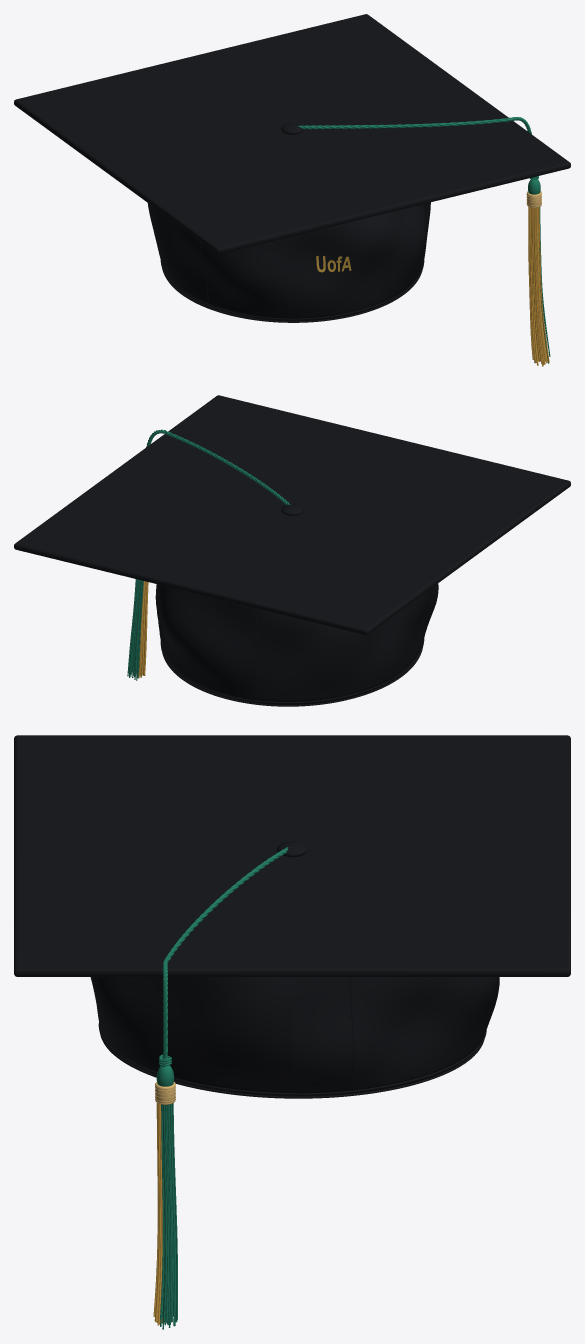
The model's file is graduation-cap-uofa.glb.
3 views of the same model, one above another, from view 1: azimuth 30°, elevation 25°; view 2: azimuth 150°, elevation 25°; view 3: azimuth 270°, elevation 25° (orthographic). The views are drawn at different scales.
Visible parts, largest first — view 1: Cap_Top, Cap_Body, Tassel_Bundle, Cap_Hem, Tassel_Cord; view 2: Cap_Top, Cap_Body, Tassel_Bundle, Cap_Hem, Tassel_Cord; view 3: Cap_Top, Cap_Body, Tassel_Bundle, Cap_Hem, Tassel_Cord.
Boxes of the visible parts, x1,y1,x2,y2 form: Cap_Top: [14, 14, 570, 253]; Cap_Body: [147, 202, 430, 321]; Tassel_Bundle: [528, 207, 550, 366]; Cap_Hem: [160, 260, 424, 322]; Tassel_Cord: [297, 117, 531, 134]; Cap_Top: [14, 395, 570, 634]; Cap_Body: [155, 583, 438, 704]; Tassel_Bundle: [127, 579, 148, 680]; Cap_Hem: [160, 638, 424, 706]; Tassel_Cord: [146, 429, 290, 504]; Cap_Top: [14, 735, 570, 976]; Cap_Body: [90, 977, 499, 1096]; Tassel_Bundle: [153, 1103, 177, 1329]; Cap_Hem: [98, 1023, 486, 1098]; Tassel_Cord: [162, 847, 288, 1059].
Bounding box in the file's own units: 0.312 × 0.1962 × 0.285.
Materials: 6 (1 with a texture image).
